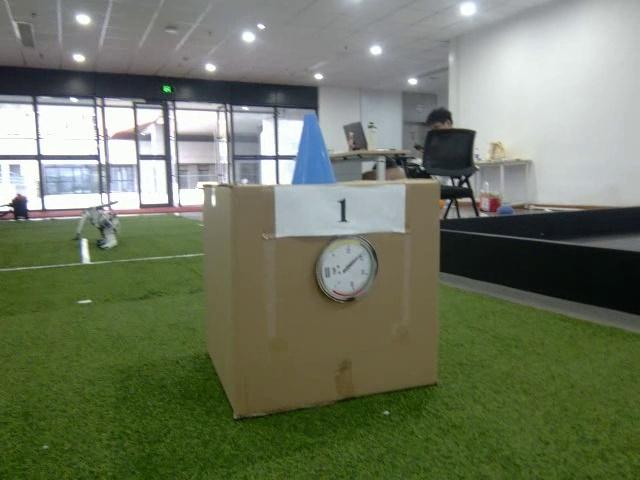1: (338, 197, 349, 223)
Dashboard: (315, 237, 380, 303)
blue_barrel: (289, 115, 337, 185)
ssi: (325, 264, 332, 281)
